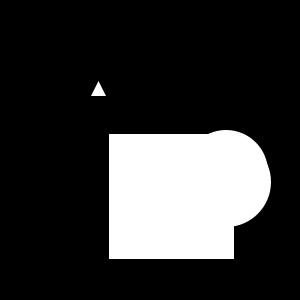circle: (109, 134, 234, 259)
rectangle: (181, 137, 271, 227), (184, 130, 268, 214)
triangle: (91, 81, 106, 96)
